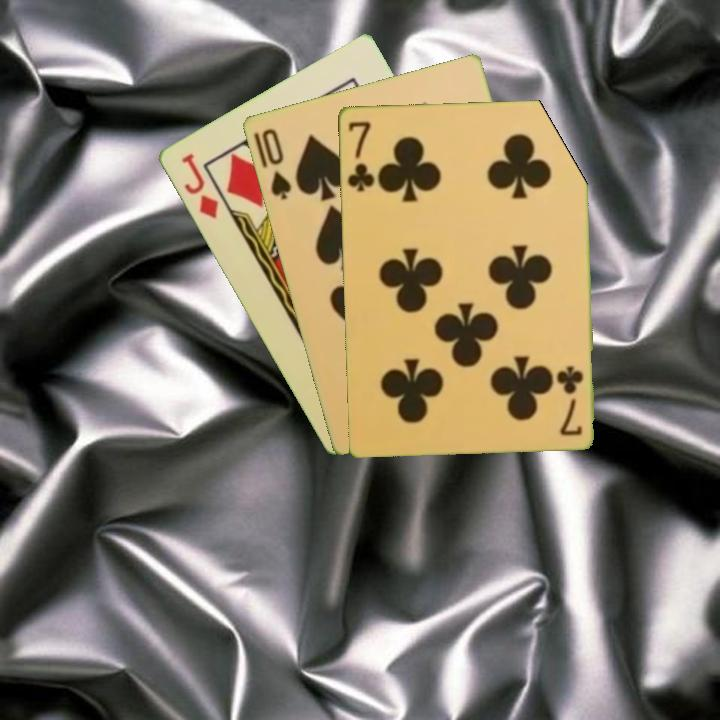10s: (257, 124, 294, 203)
7c: (343, 117, 377, 194), (555, 362, 585, 438)
Jd: (177, 149, 221, 222)
